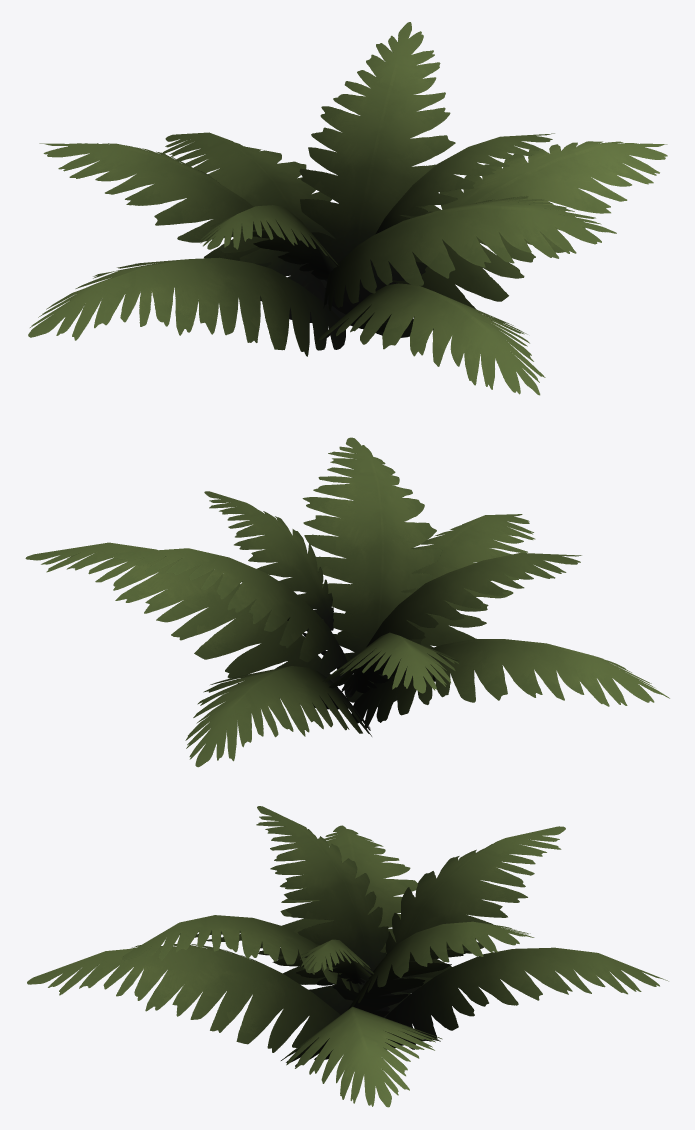
Rendered from Fern_1.gltf.
The picture shows the model from 3 angles, top to bottom: view 1: azimuth 30°, elevation 25°; view 2: azimuth 150°, elevation 25°; view 3: azimuth 270°, elevation 25°; orthographic projection. The views are drawn at different scales.
Parts seen in each view (by area): view 1: Fern_1; view 2: Fern_1; view 3: Fern_1.
Part boxes in pixels (x1=…): Fern_1: x1=28, y1=22, x2=667, y2=395; Fern_1: x1=25, y1=437, x2=669, y2=767; Fern_1: x1=27, y1=806, x2=668, y2=1107.
Size of the model in its own units: 2.83 by 0.8402 by 2.65.
Materials: 1 (1 with a texture image).
